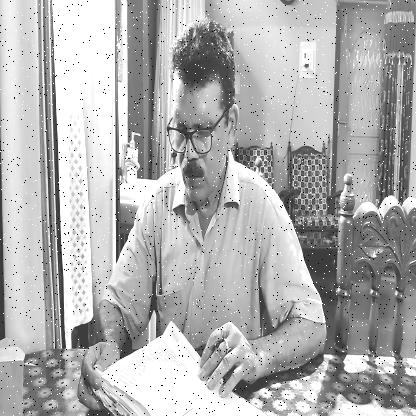Normal: (168, 8, 240, 214)
